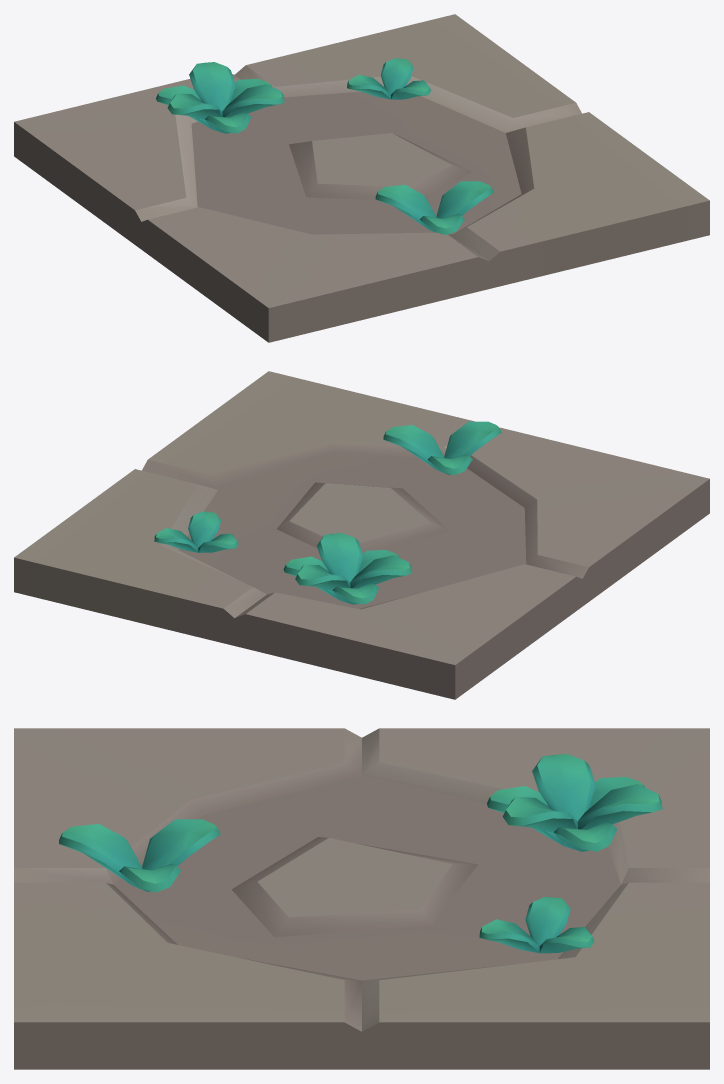
The model's file is b_donjon_sol_dalle_herbes.glb.
3 renders of one model, top to bottom at view 1: azimuth 30°, elevation 25°; view 2: azimuth 150°, elevation 25°; view 3: azimuth 270°, elevation 25°, orthographic. The views are drawn at different scales.
Parts seen in each view (by area): view 1: b_donjon_sol_dalle_herbes; view 2: b_donjon_sol_dalle_herbes; view 3: b_donjon_sol_dalle_herbes.
Boxes of the visible parts, <box> form: b_donjon_sol_dalle_herbes: <box>14,14,709,342</box>; b_donjon_sol_dalle_herbes: <box>14,371,709,699</box>; b_donjon_sol_dalle_herbes: <box>14,728,709,1069</box>.
Size of the model in its own units: 2 by 0.2954 by 2.
Materials: 1 (1 with a texture image).
